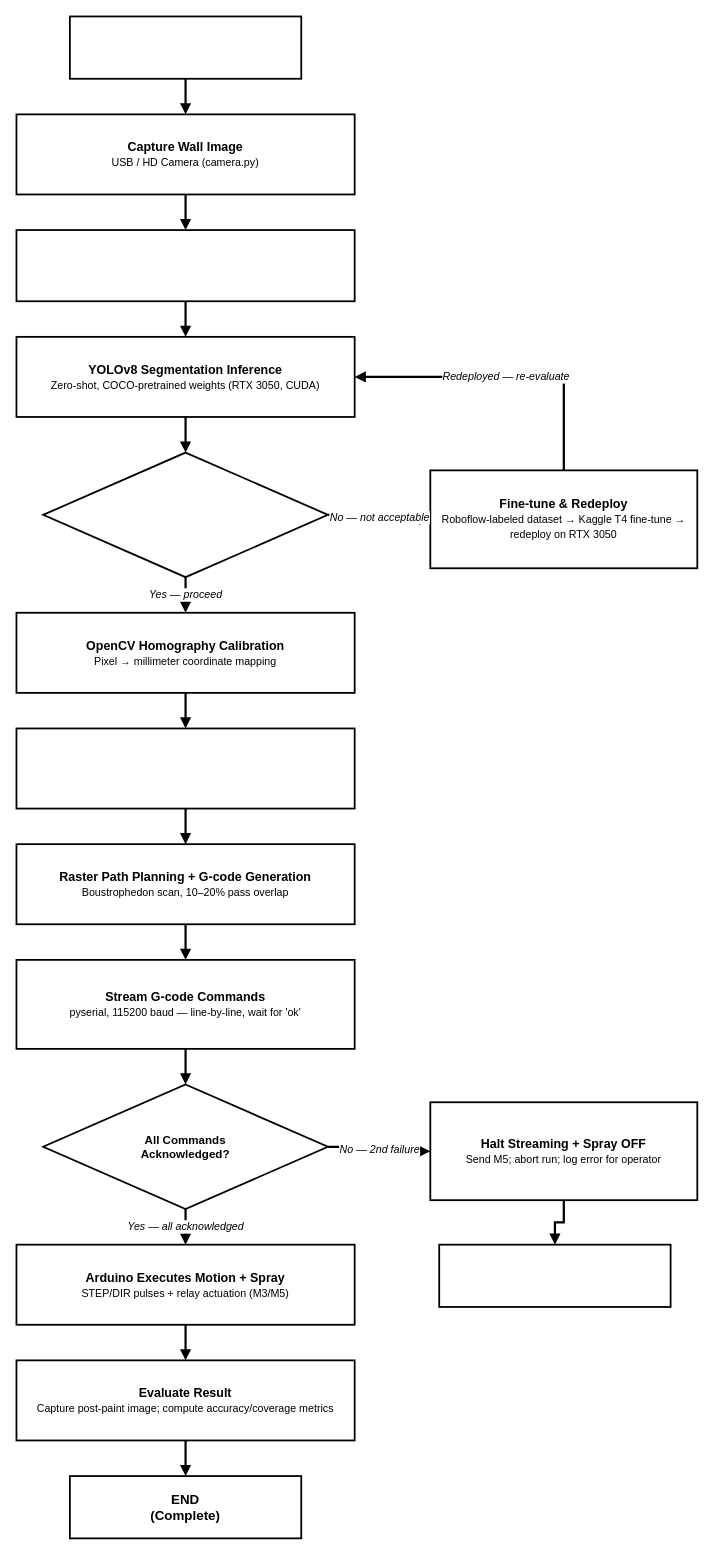
Image size: 713x1554. Some labels were removed from this diagram. The centre of each missing label's shape, as x and y in pixels:
"AI Color Recommendation Harmony rules + reference image → palette" goes at [185,768].
"END (Abort)" goes at [554,1275].
"Preprocess Image Normalize frame for model input" goes at [185,265].
"Segmentation Metrics Acceptable?" goes at [185,514].
"START" goes at [185,47].
